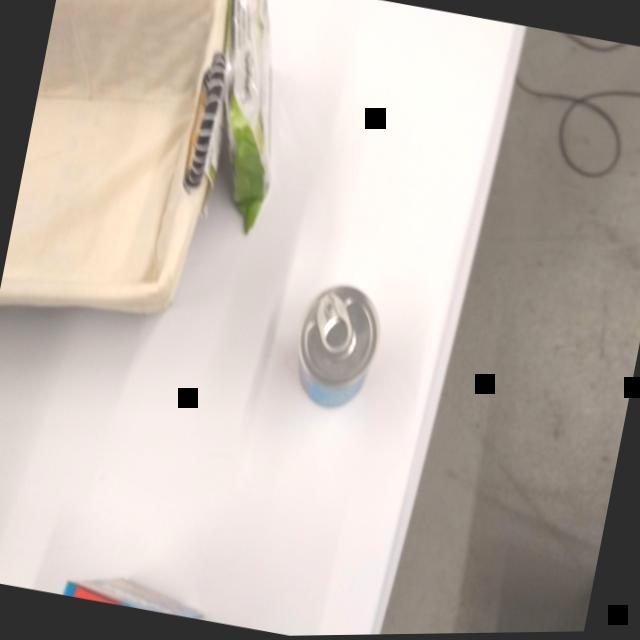sausages: (281, 272, 393, 432)
